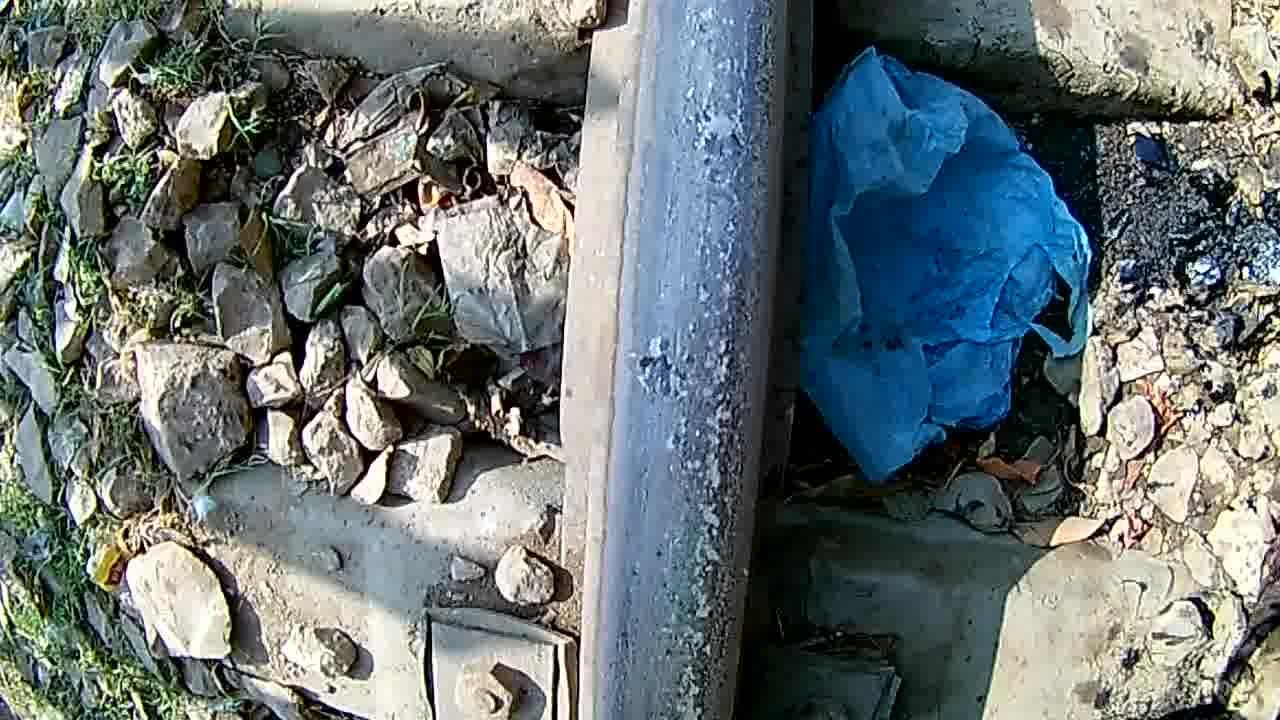crack: (610, 0, 789, 720)
